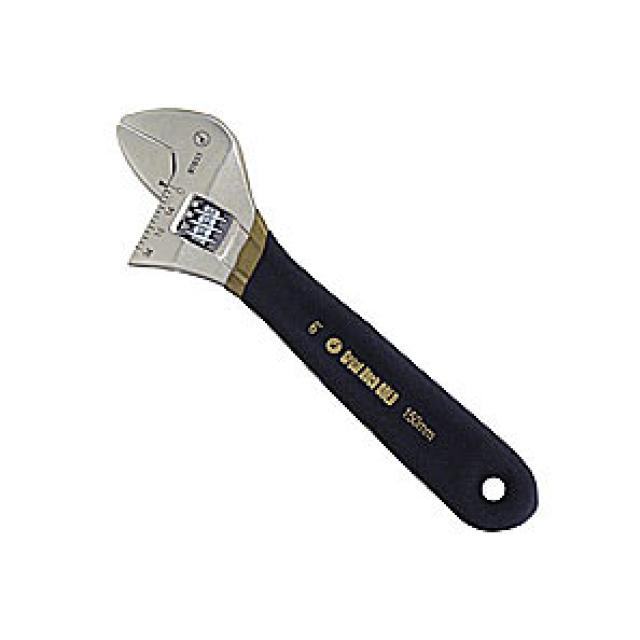wrench: (78, 36, 549, 557)
